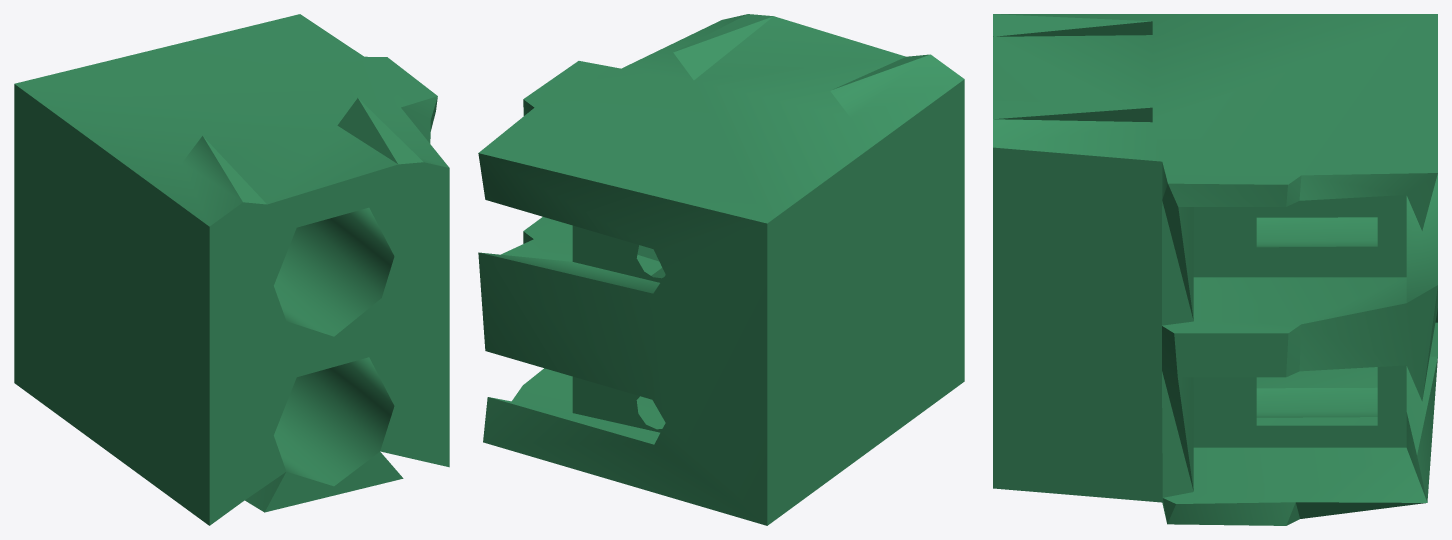
The model's file is link0_green_terminal.obj.
The picture shows the model from 3 angles, left to right: view 1: azimuth 30°, elevation 25°; view 2: azimuth 150°, elevation 25°; view 3: azimuth 270°, elevation 25°; orthographic projection. The views are drawn at different scales.
Bounding box in the file's own units: 0.00753 × 0.00757 × 0.00828.
